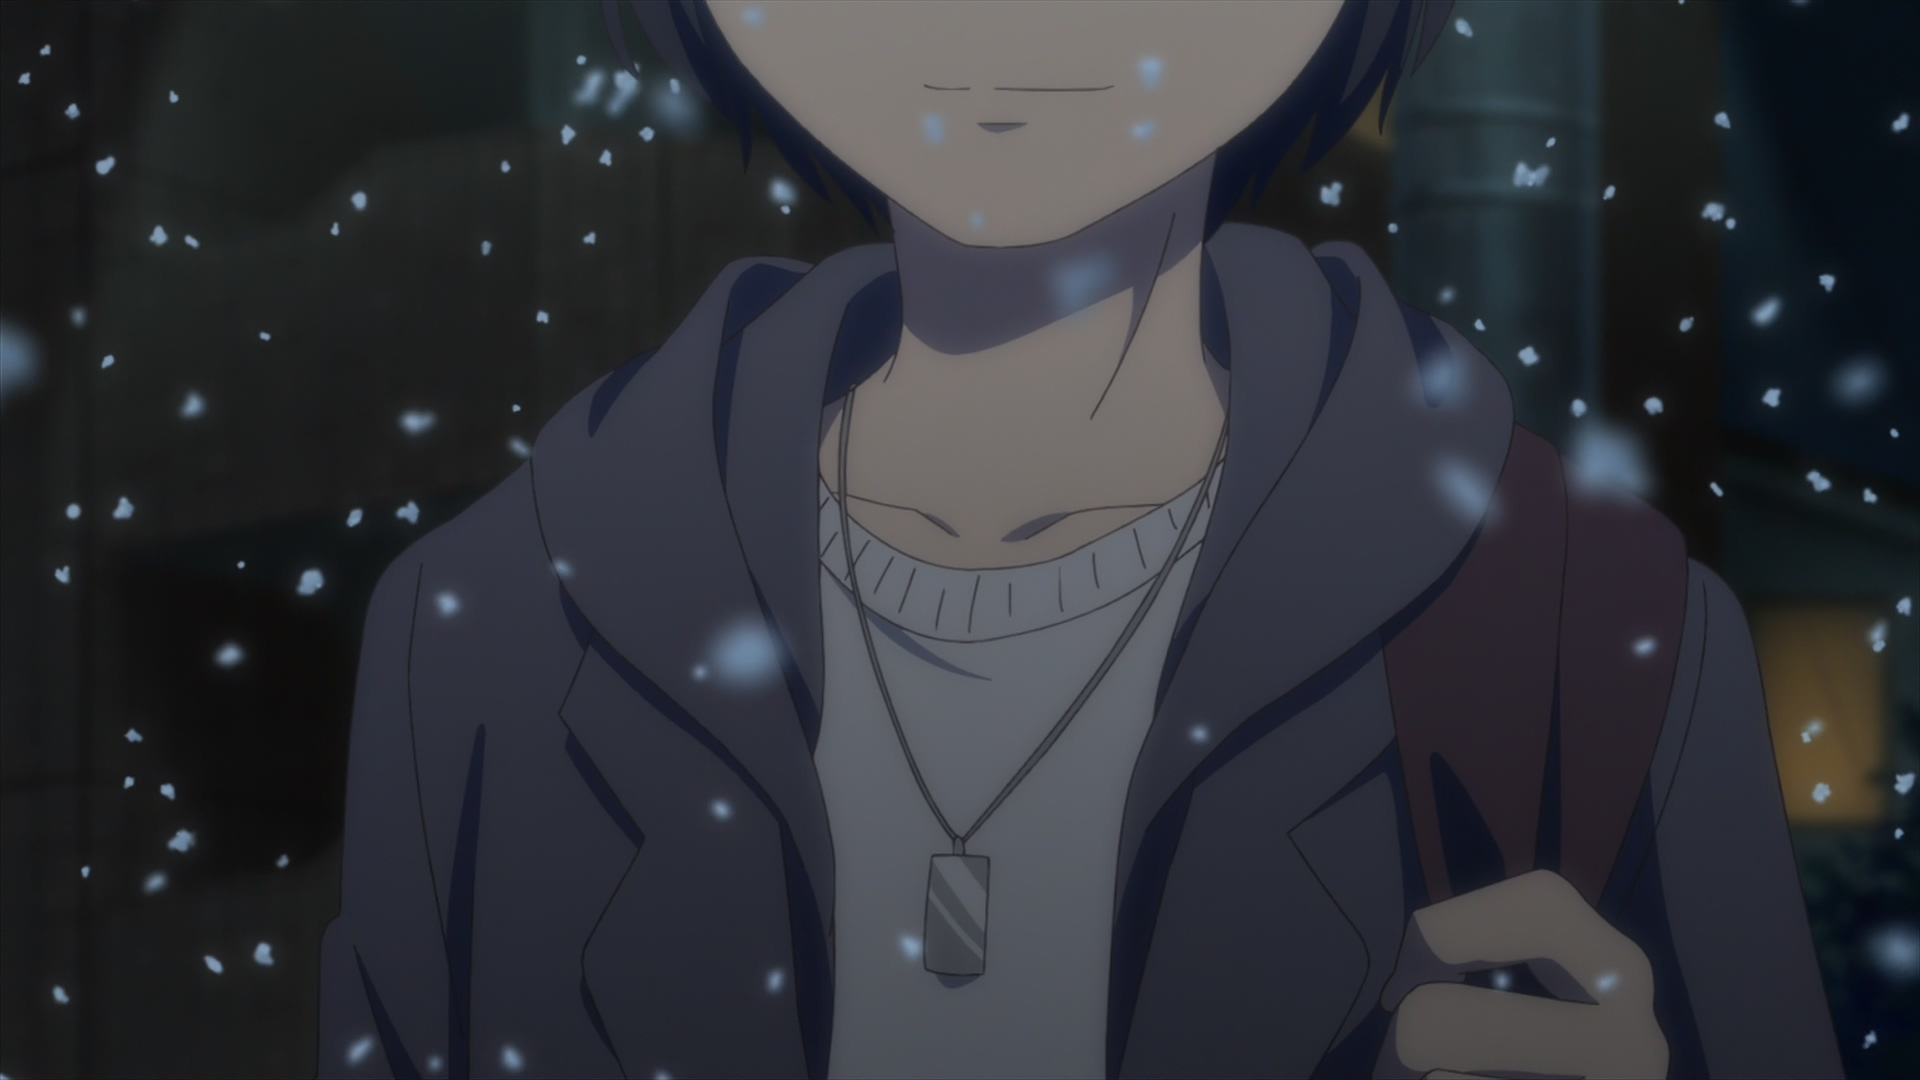其他: (313, 1, 1832, 1080)
